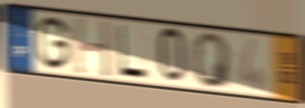0: (155, 25, 188, 88)
4: (236, 37, 269, 94)
G: (35, 15, 72, 72)
H: (73, 15, 113, 80)
L: (116, 22, 150, 82)
Q: (190, 32, 233, 91)
